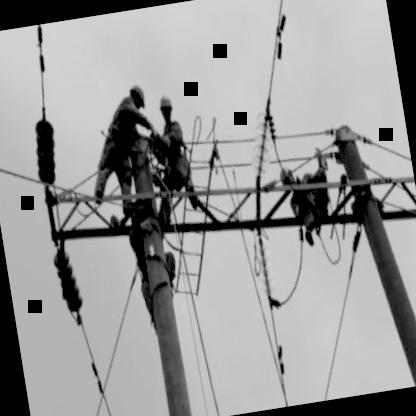helmet: (124, 81, 148, 111), (157, 94, 177, 122)
